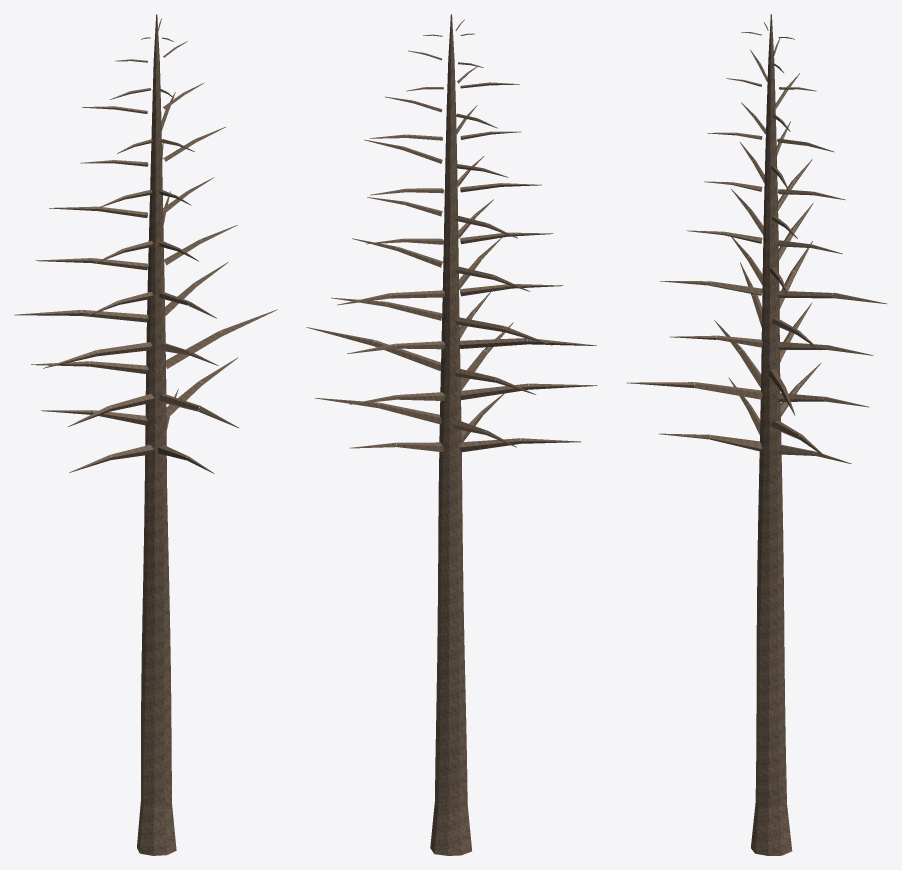
The model's file is pine_mid.glb.
The picture shows the model from 3 angles, left to right: view 1: azimuth 30°, elevation 25°; view 2: azimuth 150°, elevation 25°; view 3: azimuth 270°, elevation 25°; orthographic projection.
Visible parts, largest first — view 1: VIS_Bark; view 2: VIS_Bark; view 3: VIS_Bark.
Part boxes in pixels (x1,y1,x2,y2): VIS_Bark: [14, 14, 277, 855]; VIS_Bark: [306, 14, 597, 855]; VIS_Bark: [626, 14, 886, 855].
Size of what is drawn, in the model's own units: 6.1 by 18.5 by 5.25.
Materials: 1 (1 with a texture image).
